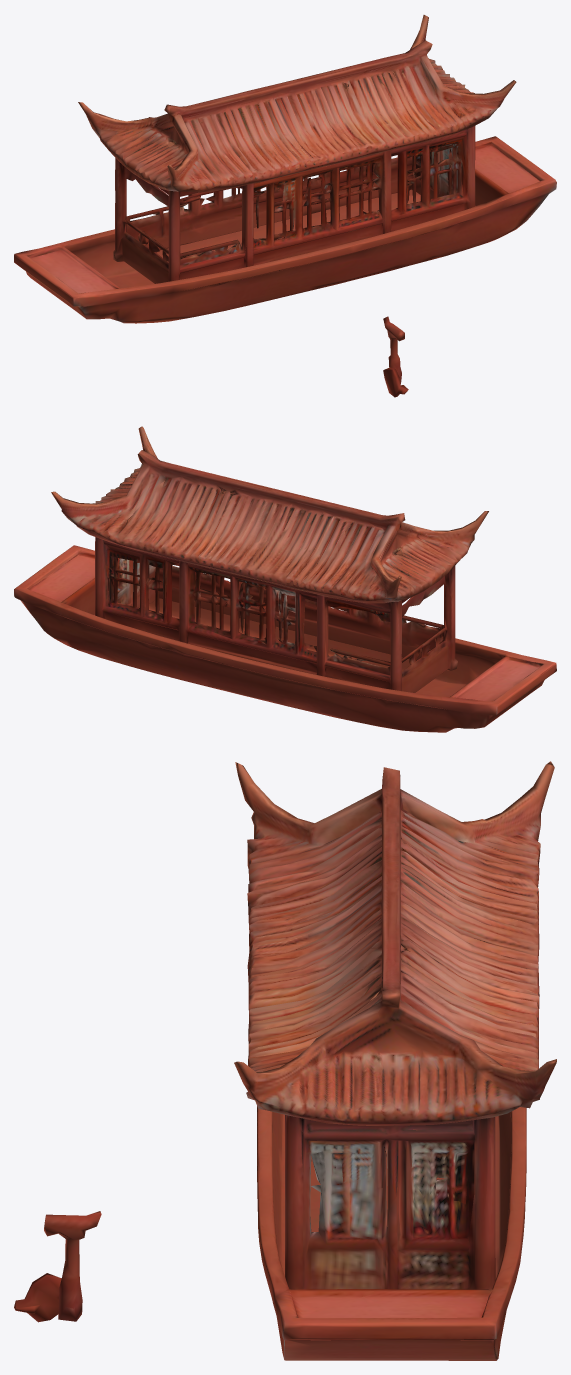
The model's file is fang.glb.
3 renders of one model, top to bottom at view 1: azimuth 30°, elevation 25°; view 2: azimuth 150°, elevation 25°; view 3: azimuth 270°, elevation 25°, orthographic. The views are drawn at different scales.
Visible parts, largest first — view 1: tripo_node_ac4f2796-e02b-43cc-90ef-b512b91de579; view 2: tripo_node_ac4f2796-e02b-43cc-90ef-b512b91de579; view 3: tripo_node_ac4f2796-e02b-43cc-90ef-b512b91de579.
Boxes of the visible parts, bbox=[...] form: tripo_node_ac4f2796-e02b-43cc-90ef-b512b91de579: bbox=[14, 15, 556, 397]; tripo_node_ac4f2796-e02b-43cc-90ef-b512b91de579: bbox=[14, 426, 556, 732]; tripo_node_ac4f2796-e02b-43cc-90ef-b512b91de579: bbox=[14, 761, 556, 1360].
Size of the model in its own units: 0.9999 by 0.4939 by 0.549.
Materials: 1 (1 with a texture image).
